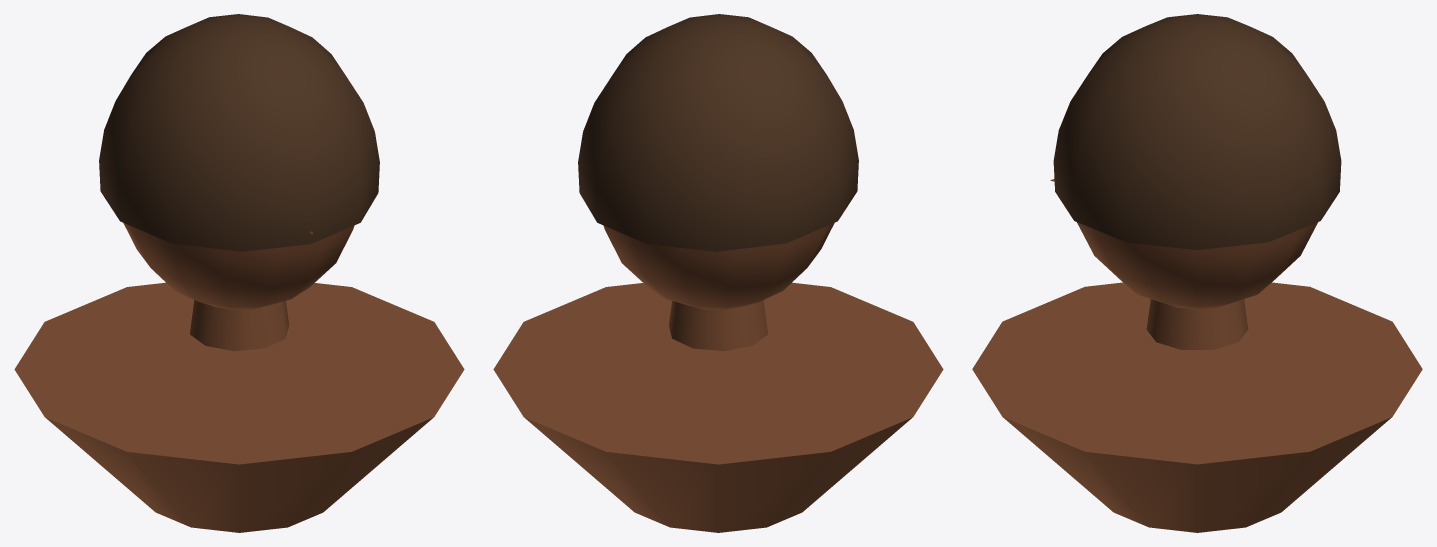
Rendered from portrait08m_003.glb.
The picture shows the model from 3 angles, left to right: view 1: azimuth 30°, elevation 25°; view 2: azimuth 150°, elevation 25°; view 3: azimuth 270°, elevation 25°; orthographic projection.
Size of the model in its own units: 1.86 by 2.12 by 1.86.
